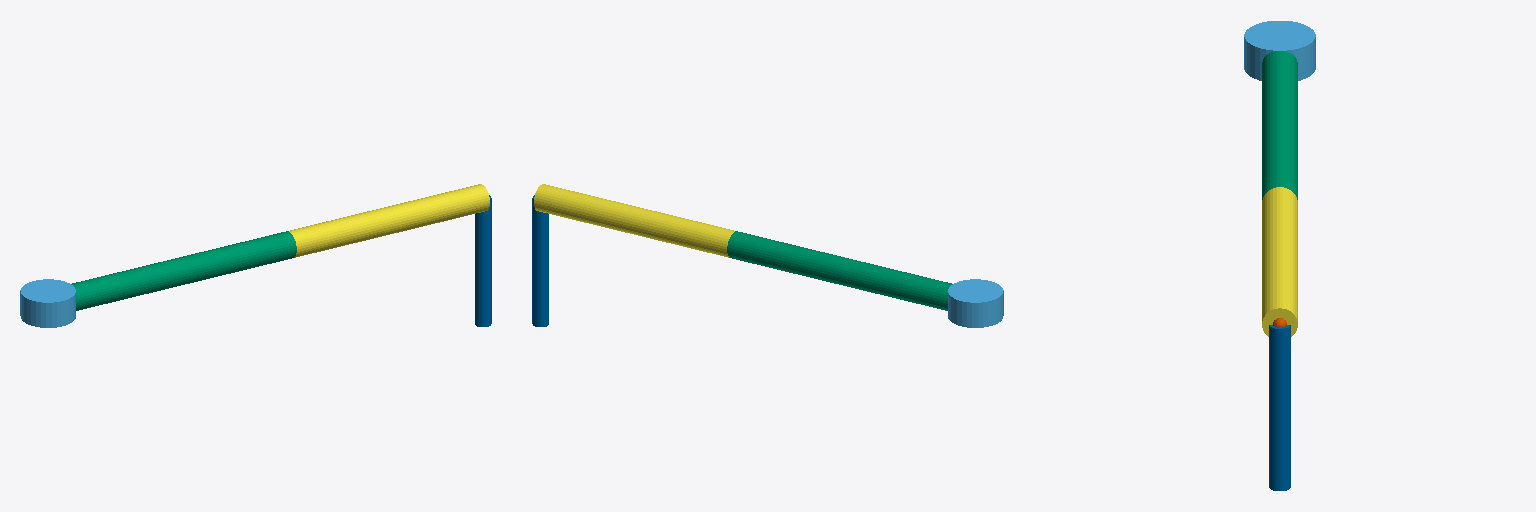
URDF robot description (scara):
<?xml version="1.0" encoding="utf-8"?>
<robot name="scara">
  <!-- SCARA robot matching the canonical spec in thalos-core:
       base_height=0.5, a1=1.0, a2=0.8
       joint_1: revolute, ±140°
       joint_2: revolute, ±150°
       joint_3: prismatic, [-0.5, 0.0]
       joint_4: revolute, ±360° (continuous)
  -->

  <!-- ─── Links ─── -->

  <link name="world"/>

  <link name="base_link">
    <visual>
      <geometry>
        <cylinder radius="0.1" length="0.1"/>
      </geometry>
      <origin rpy="0 0 0" xyz="0 0 0"/>
    </visual>
  </link>

  <link name="link_1">  <!-- upper arm -->
    <visual>
      <geometry>
        <cylinder radius="0.05" length="1.0"/>
      </geometry>
      <origin rpy="0 1.5708 0" xyz="0.5 0 0"/>
    </visual>
  </link>

  <link name="link_2">  <!-- forearm -->
    <visual>
      <geometry>
        <cylinder radius="0.05" length="0.8"/>
      </geometry>
      <origin rpy="0 1.5708 0" xyz="0.4 0 0"/>
    </visual>
  </link>

  <link name="link_3">  <!-- tool lift -->
    <visual>
      <geometry>
        <cylinder radius="0.03" length="0.5"/>
      </geometry>
      <origin rpy="0 0 0" xyz="0 0 -0.25"/>
    </visual>
  </link>

  <link name="tool0">  <!-- end effector -->
    <visual>
      <geometry>
        <sphere radius="0.02"/>
      </geometry>
      <origin rpy="0 0 0" xyz="0 0 0"/>
    </visual>
  </link>

  <!-- ─── Joints ─── -->

  <joint name="base_joint" type="fixed">
    <parent link="world"/>
    <child  link="base_link"/>
    <origin xyz="0 0 0.5" rpy="0 0 0"/>
  </joint>

  <joint name="joint_1" type="revolute">
    <parent link="base_link"/>
    <child  link="link_1"/>
    <origin xyz="0 0 0" rpy="0 0 0"/>
    <axis   xyz="0 0 1"/>
    <limit lower="-2.44346" upper="2.44346" effort="10" velocity="1"/>
  </joint>

  <joint name="joint_2" type="revolute">
    <parent link="link_1"/>
    <child  link="link_2"/>
    <origin xyz="1.0 0 0" rpy="0 0 0"/>
    <axis   xyz="0 0 1"/>
    <limit lower="-2.618" upper="2.618" effort="10" velocity="1"/>
  </joint>

  <joint name="joint_3" type="prismatic">
    <parent link="link_2"/>
    <child  link="link_3"/>
    <origin xyz="0.8 0 0" rpy="0 0 0"/>
    <axis   xyz="0 0 1"/>
    <limit lower="-0.5" upper="0.0" effort="10" velocity="0.5"/>
  </joint>

  <joint name="joint_4" type="continuous">
    <parent link="link_3"/>
    <child  link="tool0"/>
    <origin xyz="0 0 0" rpy="0 0 0"/>
    <axis   xyz="0 0 1"/>
    <limit lower="-6.2832" upper="6.2832" effort="5" velocity="2"/>
  </joint>
</robot>

--- Render facts (derived) ---
The picture shows the robot from 3 angles, left to right: view 1: azimuth 30°, elevation 25°; view 2: azimuth 150°, elevation 25°; view 3: azimuth 270°, elevation 25°; orthographic projection.
Robot: scara — 6 links, 5 joints (2 revolute, 1 continuous, 1 prismatic, 1 fixed); root link world; default pose: every joint at zero.
Links seen in each view (by area): view 1: link_1, link_2, base_link, link_3; view 2: link_1, link_2, base_link, link_3; view 3: link_1, link_2, link_3, base_link.
Boxes of the visible links, x1=… form: link_1: x1=71, y1=231, x2=296, y2=310; link_2: x1=289, y1=184, x2=489, y2=257; base_link: x1=20, y1=279, x2=75, y2=327; link_3: x1=475, y1=195, x2=491, y2=326; link_1: x1=727, y1=231, x2=952, y2=310; link_2: x1=534, y1=184, x2=734, y2=257; base_link: x1=948, y1=279, x2=1003, y2=327; link_3: x1=532, y1=195, x2=548, y2=326; link_1: x1=1262, y1=51, x2=1297, y2=199; link_2: x1=1262, y1=187, x2=1297, y2=336; link_3: x1=1269, y1=325, x2=1290, y2=490; base_link: x1=1244, y1=21, x2=1315, y2=80.
Bounding box of the posed robot: 1.93 × 0.2 × 0.55 m (x, y, z).
Geometry: primitives only (box / cylinder / sphere), no mesh files.
